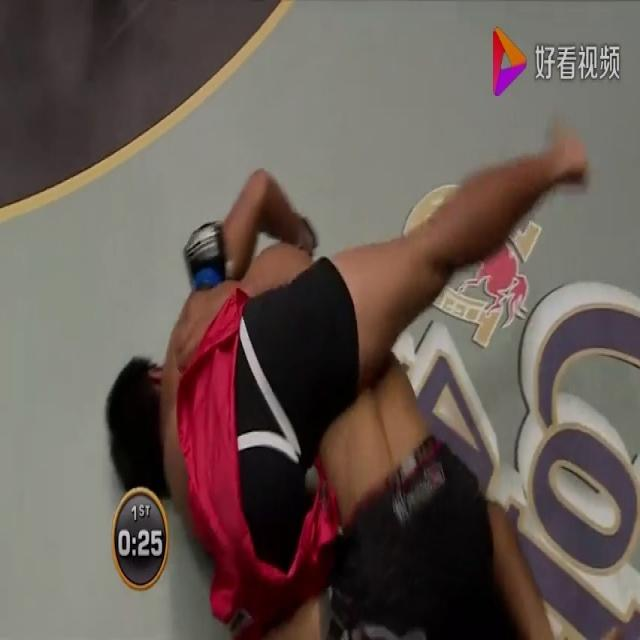fight: (88, 104, 639, 639)
